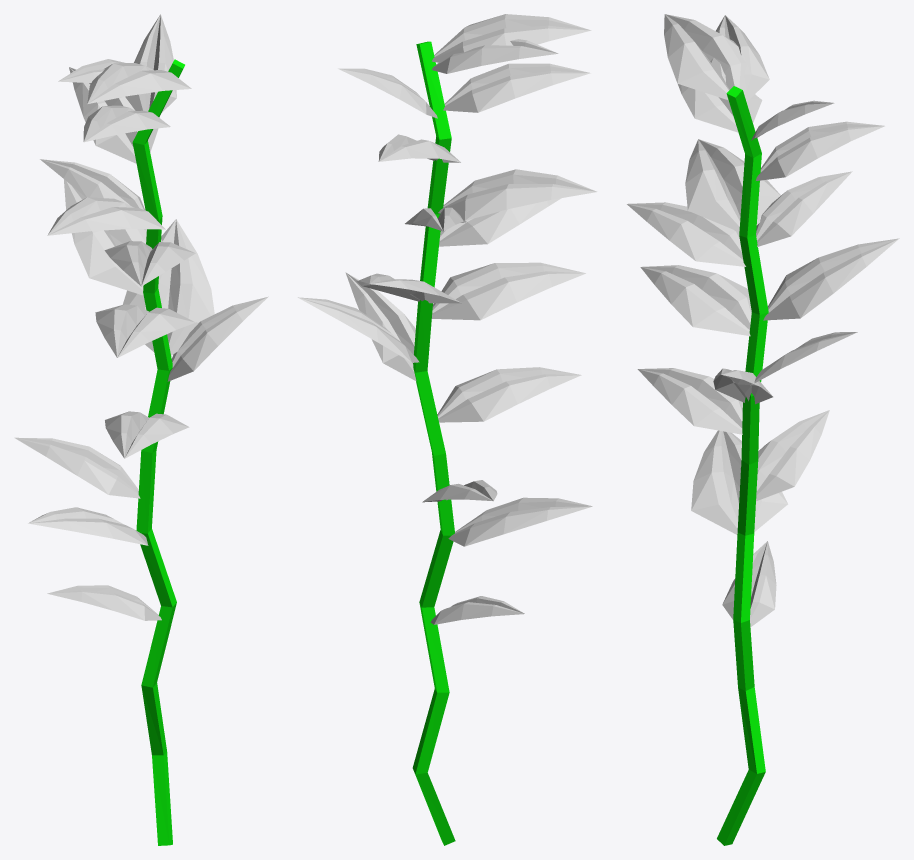
File: grasBig_8.fbx
The picture shows the model from 3 angles, left to right: view 1: azimuth 30°, elevation 25°; view 2: azimuth 150°, elevation 25°; view 3: azimuth 270°, elevation 25°; orthographic projection. The views are drawn at different scales.
Visible parts, largest first — view 1: quickmaterial1; view 2: quickmaterial1; view 3: quickmaterial1.
Boxes of the visible parts, x1,y1,x2,y2 form: quickmaterial1: [14, 14, 268, 845]; quickmaterial1: [297, 14, 596, 845]; quickmaterial1: [627, 14, 899, 845].
Size of the model in its own units: 0.3263 by 1.03 by 0.3267.
